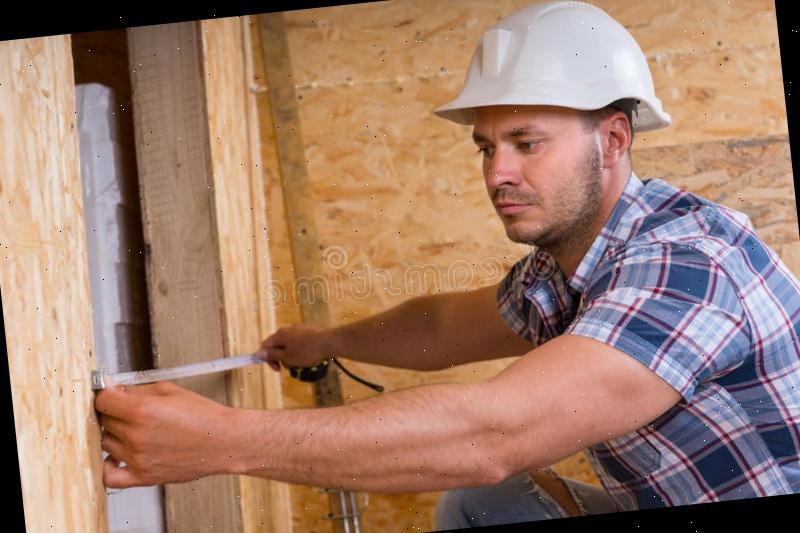helmet: (421, 0, 678, 153)
no_wear: (537, 225, 800, 516)
